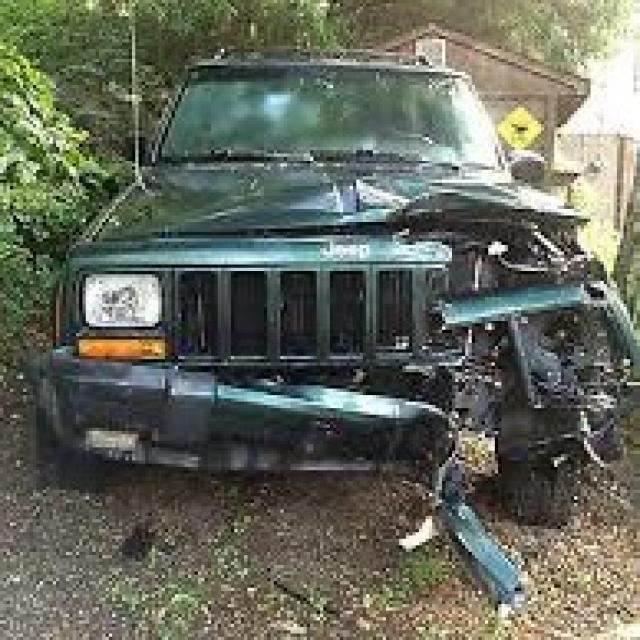severe: (336, 177, 640, 498)
